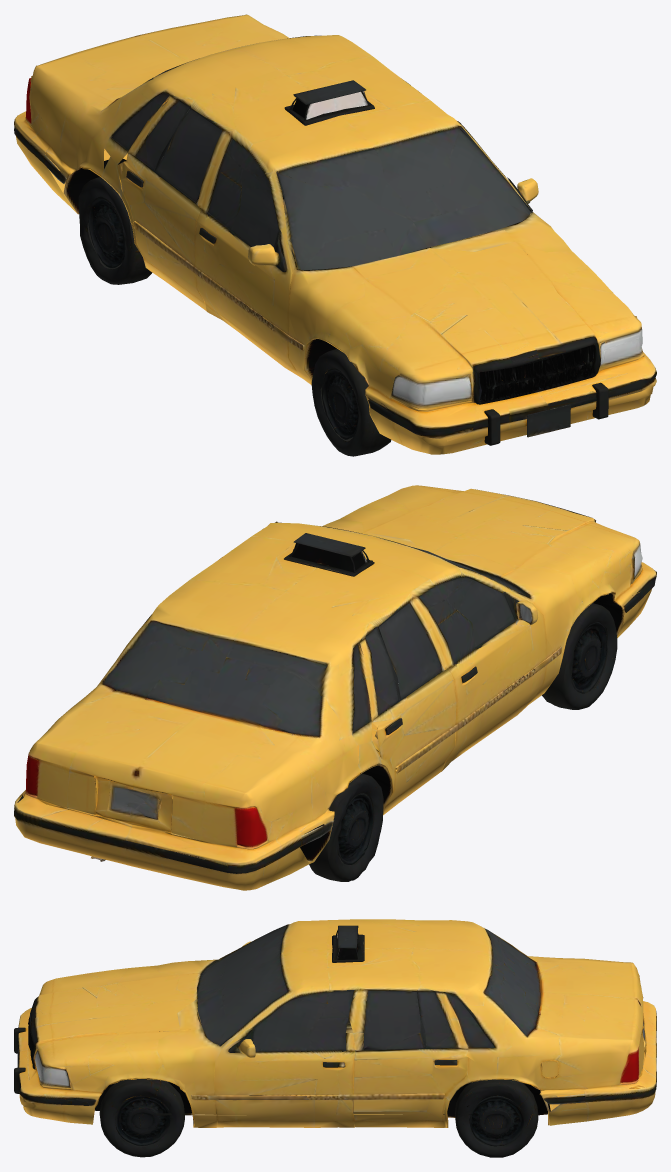
Rendered from taxi-v1.glb.
3 views of the same model, one above another, from view 1: azimuth 30°, elevation 25°; view 2: azimuth 150°, elevation 25°; view 3: azimuth 270°, elevation 25° (orthographic). The views are drawn at different scales.
Visible parts, largest first — view 1: body, wheel_fl_mesh, wheel_rl_mesh; view 2: body, wheel_rl_mesh, wheel_fl_mesh; view 3: body, wheel_rr_mesh, wheel_fr_mesh.
Boxes of the visible parts, x1,y1,x2,y2 form: body: [14, 14, 656, 454]; wheel_fl_mesh: [311, 340, 391, 456]; wheel_rl_mesh: [78, 176, 152, 284]; body: [14, 485, 656, 890]; wheel_rl_mesh: [309, 765, 383, 881]; wheel_fl_mesh: [542, 597, 617, 709]; body: [14, 919, 656, 1127]; wheel_rr_mesh: [447, 1078, 538, 1157]; wheel_fr_mesh: [99, 1077, 184, 1157].
Size of the model in its own units: 0.3706 by 0.2881 by 0.9502.
Materials: 1 (1 with a texture image).
